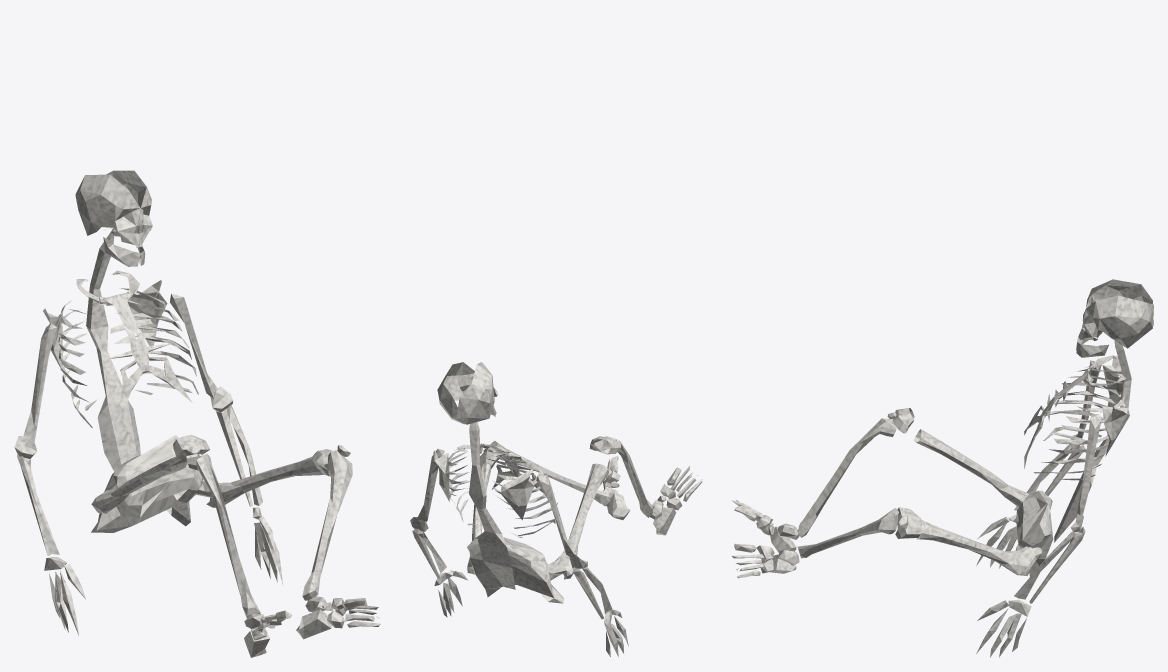
Rendered from Skeleton1.fbx.
3 renders of one model, left to right at view 1: azimuth 30°, elevation 25°; view 2: azimuth 150°, elevation 25°; view 3: azimuth 270°, elevation 25°, orthographic. The views are drawn at different scales.
Parts seen in each view (by area): view 1: Skeleton Feetsies; view 2: Skeleton Feetsies; view 3: Skeleton Feetsies.
Part boxes in pixels (x1,y1,x2,y2): Skeleton Feetsies: (14,170,380,657); Skeleton Feetsies: (410,362,702,656); Skeleton Feetsies: (731,279,1153,657).
Bounding box in the file's own units: 0.4273 × 1.18 × 0.7526.
